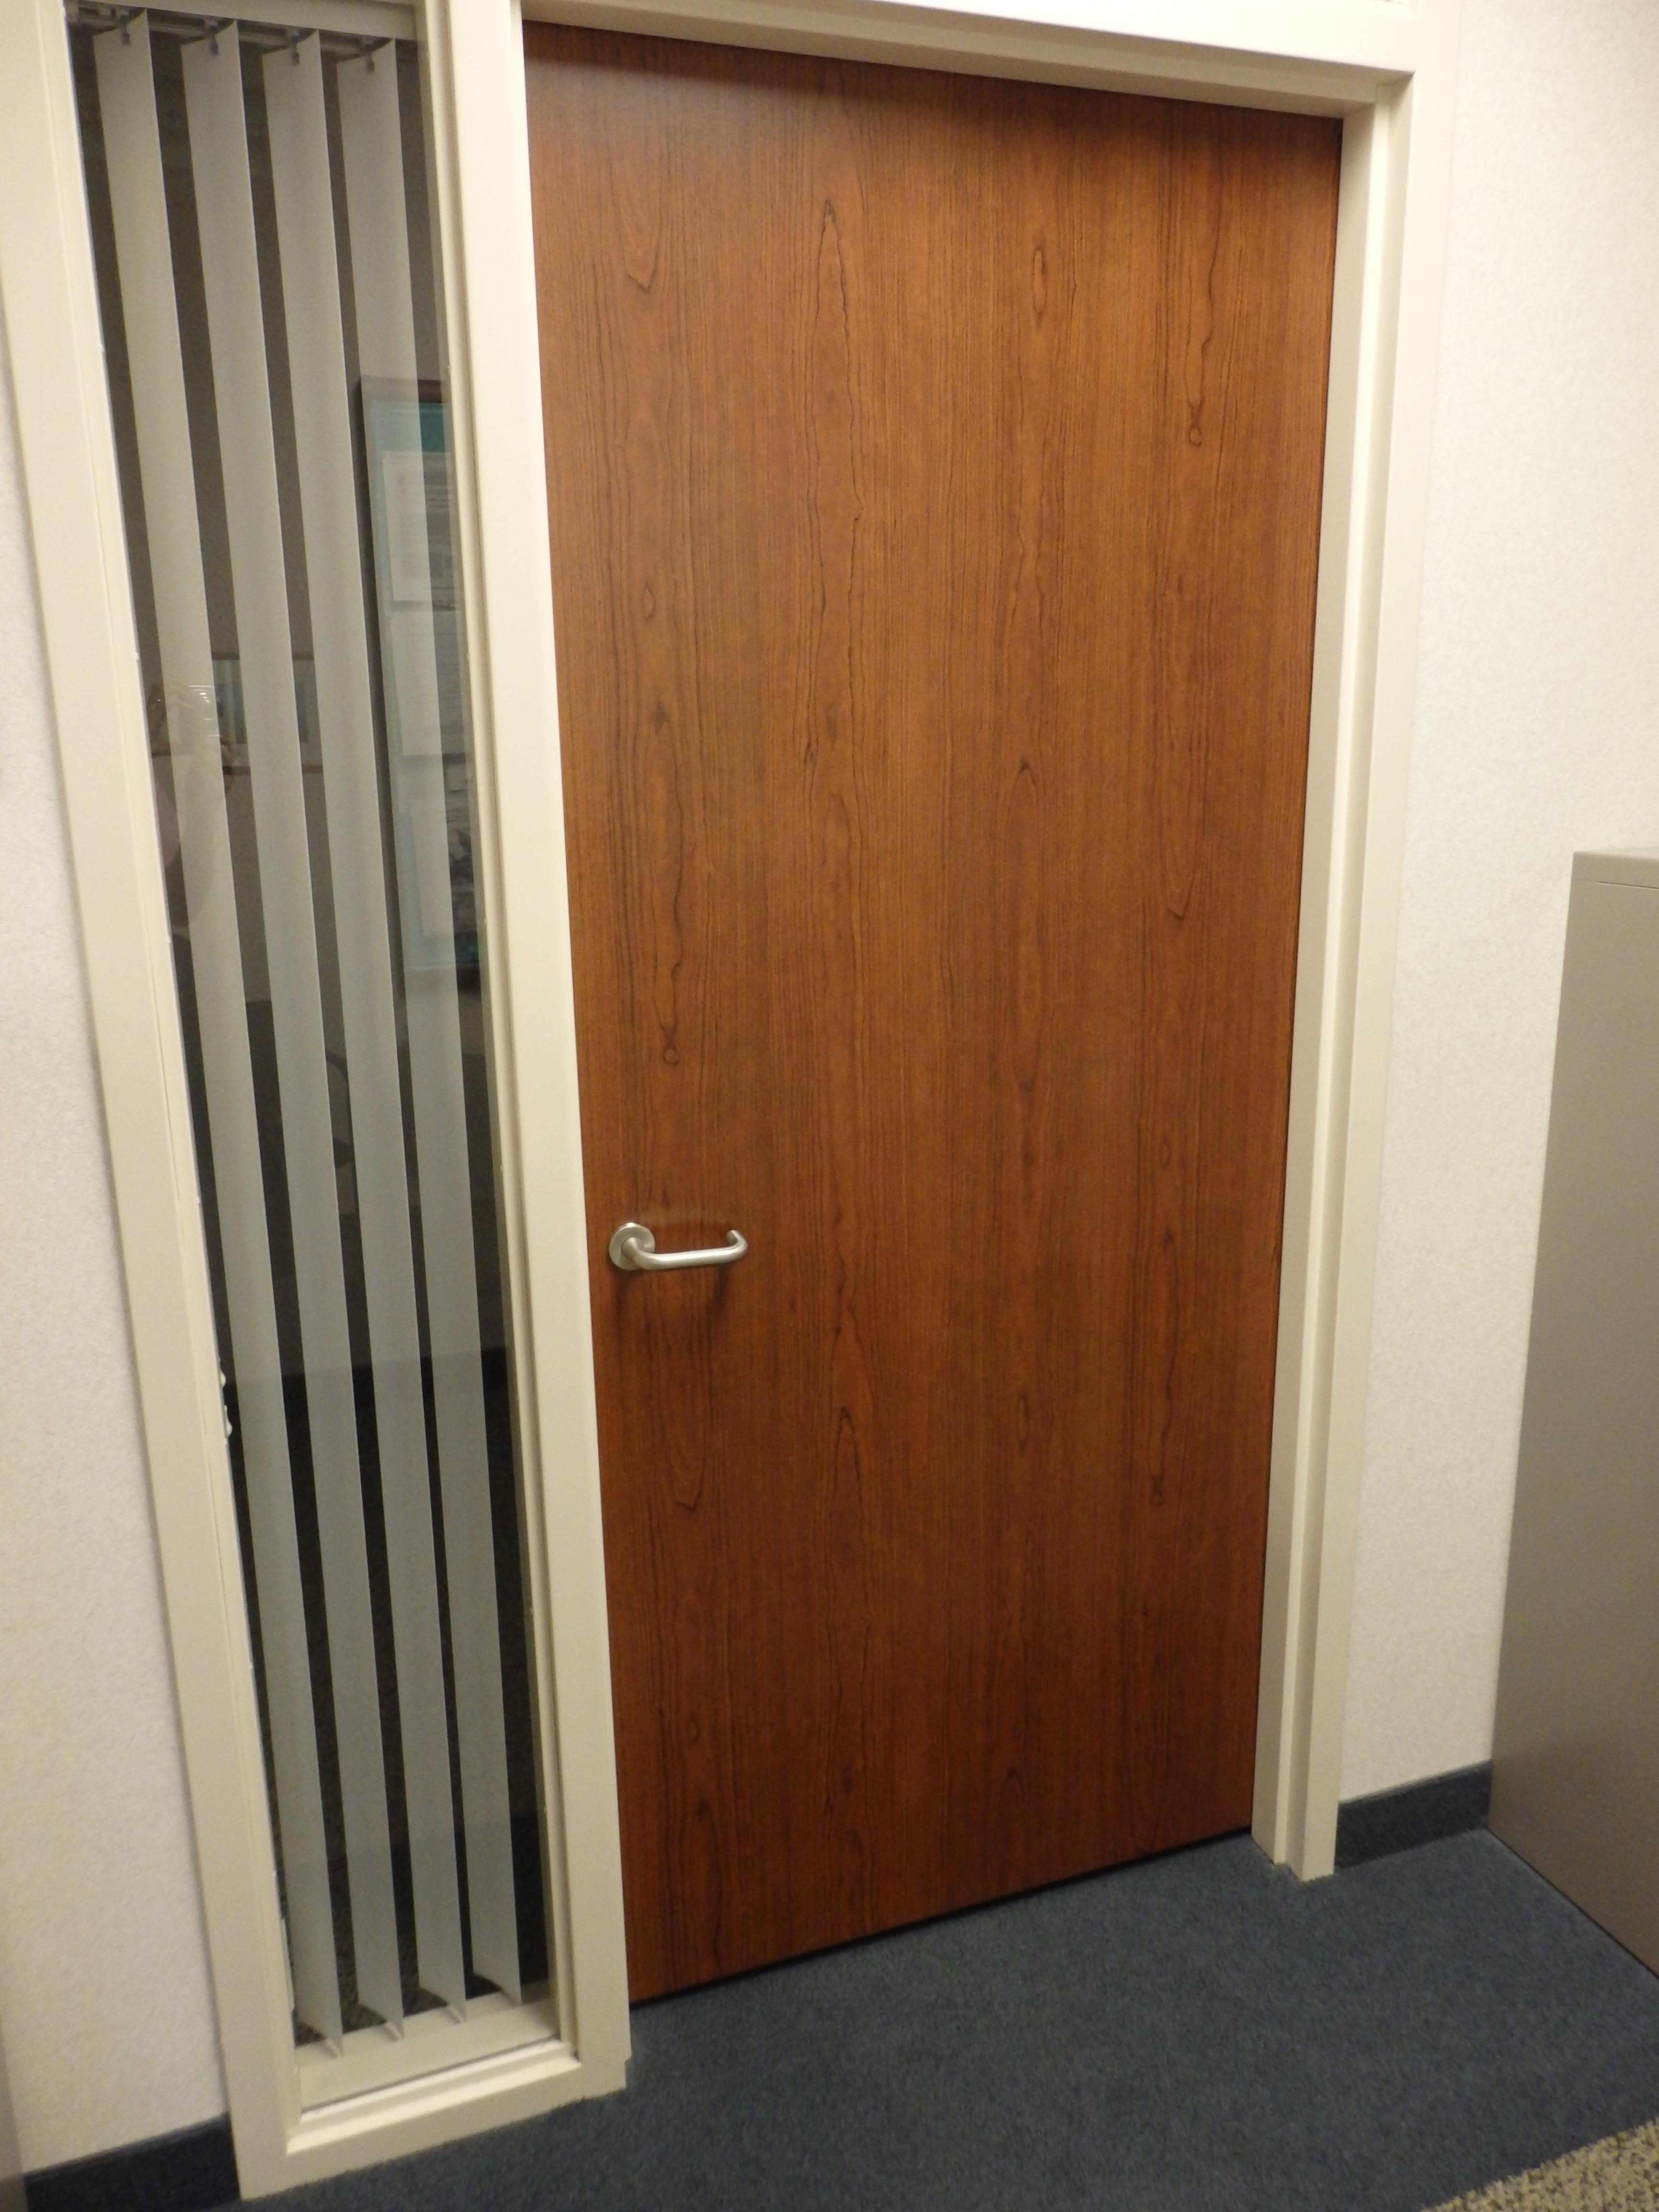door: (582, 96, 1279, 1841)
handle: (624, 1170, 765, 1315)
